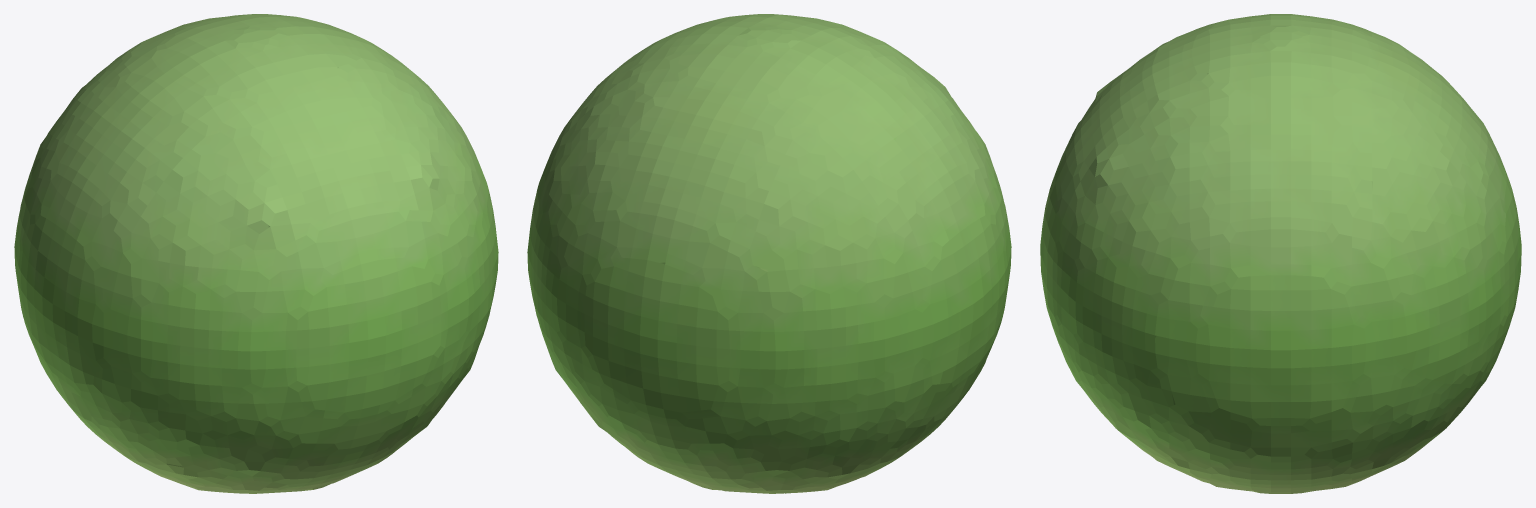
Rendered from redSlime.glb.
The picture shows the model from 3 angles, left to right: view 1: azimuth 30°, elevation 25°; view 2: azimuth 150°, elevation 25°; view 3: azimuth 270°, elevation 25°; orthographic projection.
Visible parts, largest first — view 1: geometry_0; view 2: geometry_0; view 3: geometry_0.
Part boxes in pixels (<box>): geometry_0: <box>14,14,498,493</box>; geometry_0: <box>527,14,1011,493</box>; geometry_0: <box>1040,14,1521,493</box>.
Size of the model in its own units: 1.02 by 0.9937 by 1.02.
Materials: 1 (1 with a texture image).
